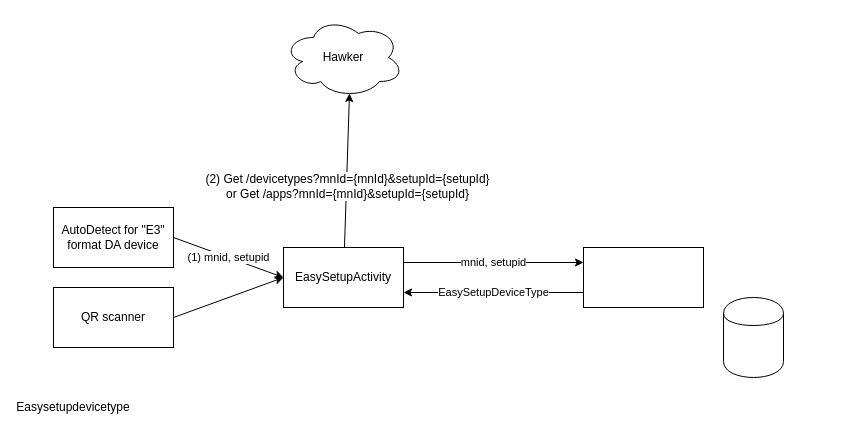
Some shapes in this 857 by 435 pixel diagram are drawn without their labels. Here are the shapes that lost their labels. From the top down, the box of each, then its label:
(582, 246, 704, 308): EasySetupDeviceTypeUtil
(722, 296, 784, 378): EasySetupDeviceTypeHashMap mnid, setupid : easysetupdevicetype
